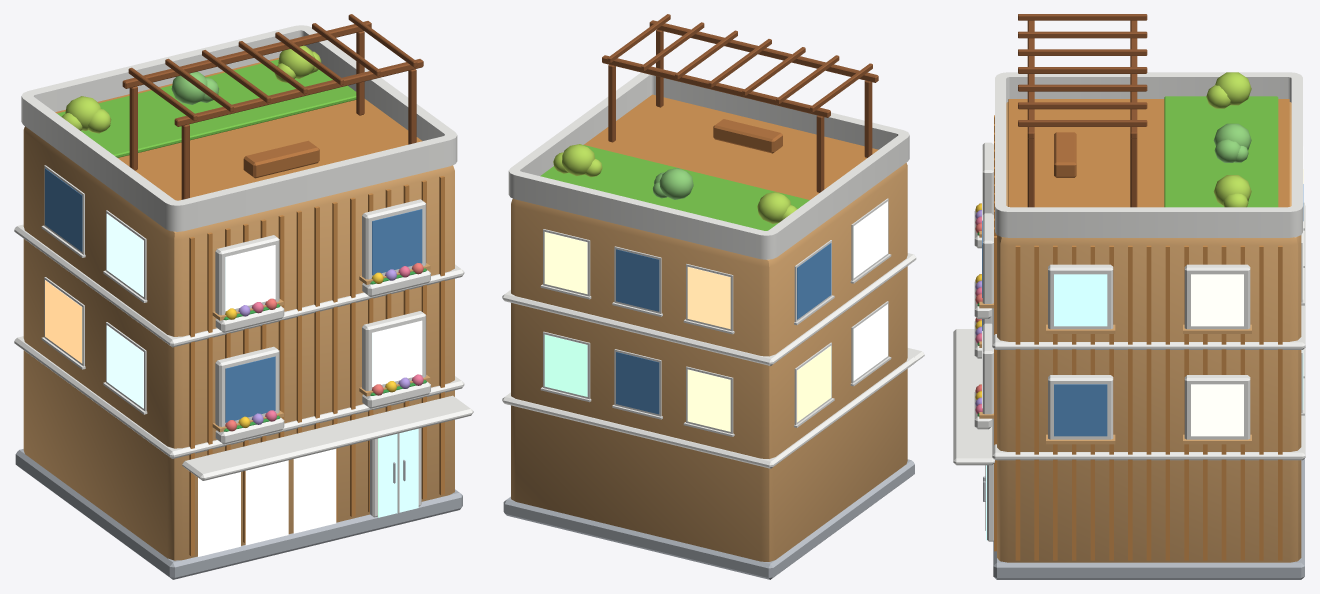
The model's file is predinho_madeira_floreiras.glb.
3 views of the same model, side by side, from view 1: azimuth 30°, elevation 25°; view 2: azimuth 150°, elevation 25°; view 3: azimuth 270°, elevation 25° (orthographic). The views are drawn at different scales.
Parts seen in each view (by area): view 1: predinho_madeira_floreiras; view 2: predinho_madeira_floreiras; view 3: predinho_madeira_floreiras.
Boxes of the visible parts, x1,y1,x2,y2 form: predinho_madeira_floreiras: (14, 14, 473, 579); predinho_madeira_floreiras: (502, 14, 924, 579); predinho_madeira_floreiras: (953, 14, 1305, 579).
Size of the model in its own units: 9.18 by 12.86 by 9.27.
6 materials, 1 textured.
